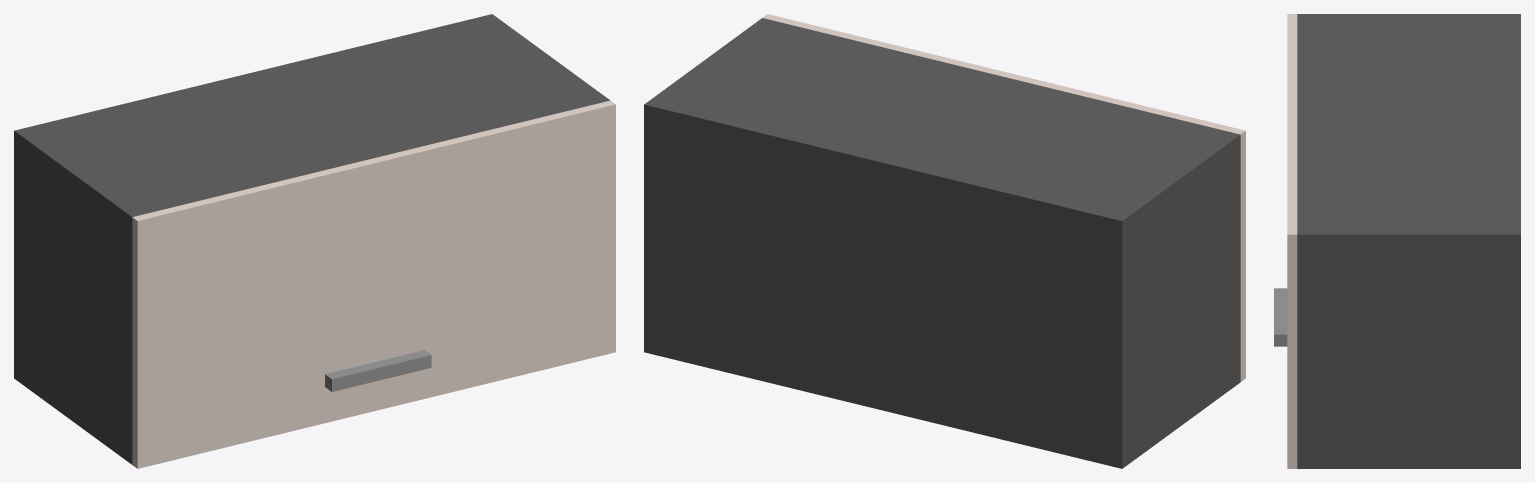
Rendered from Kitchen_Cabinet_3.fbx.
3 renders of one model, left to right at view 1: azimuth 30°, elevation 25°; view 2: azimuth 150°, elevation 25°; view 3: azimuth 270°, elevation 25°, orthographic. The views are drawn at different scales.
Parts seen in each view (by area): view 1: Kitchen_Cabinet_3; view 2: Kitchen_Cabinet_3; view 3: Kitchen_Cabinet_3.
Boxes of the visible parts, left/top/right/bottom form: Kitchen_Cabinet_3: left=14, top=14, right=615, bottom=468; Kitchen_Cabinet_3: left=644, top=14, right=1245, bottom=468; Kitchen_Cabinet_3: left=1274, top=14, right=1520, bottom=468.
Size of the model in its own units: 121 by 57.1 by 59.82.
